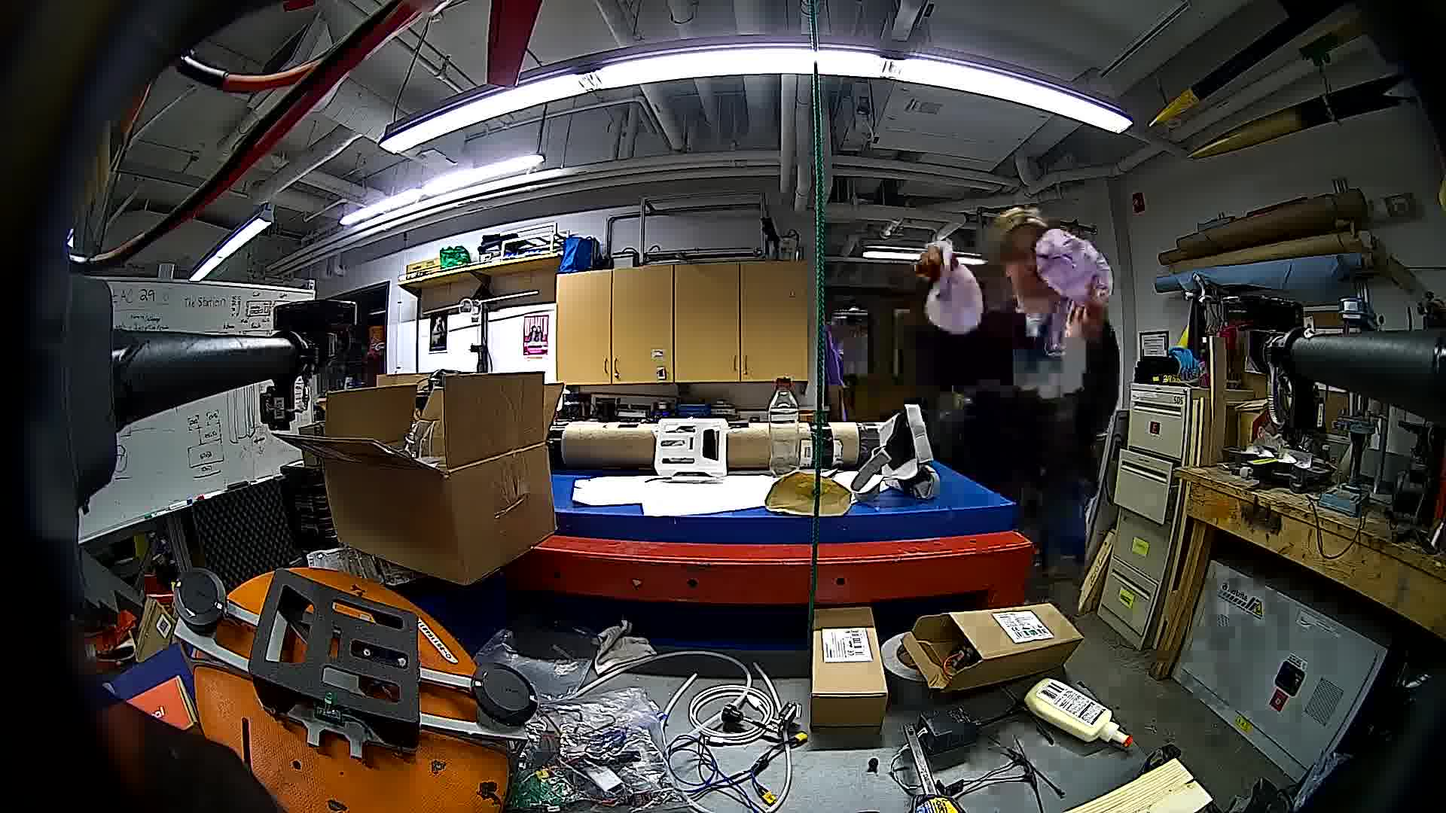Target: (1034, 228, 1117, 307), (922, 261, 986, 334)
